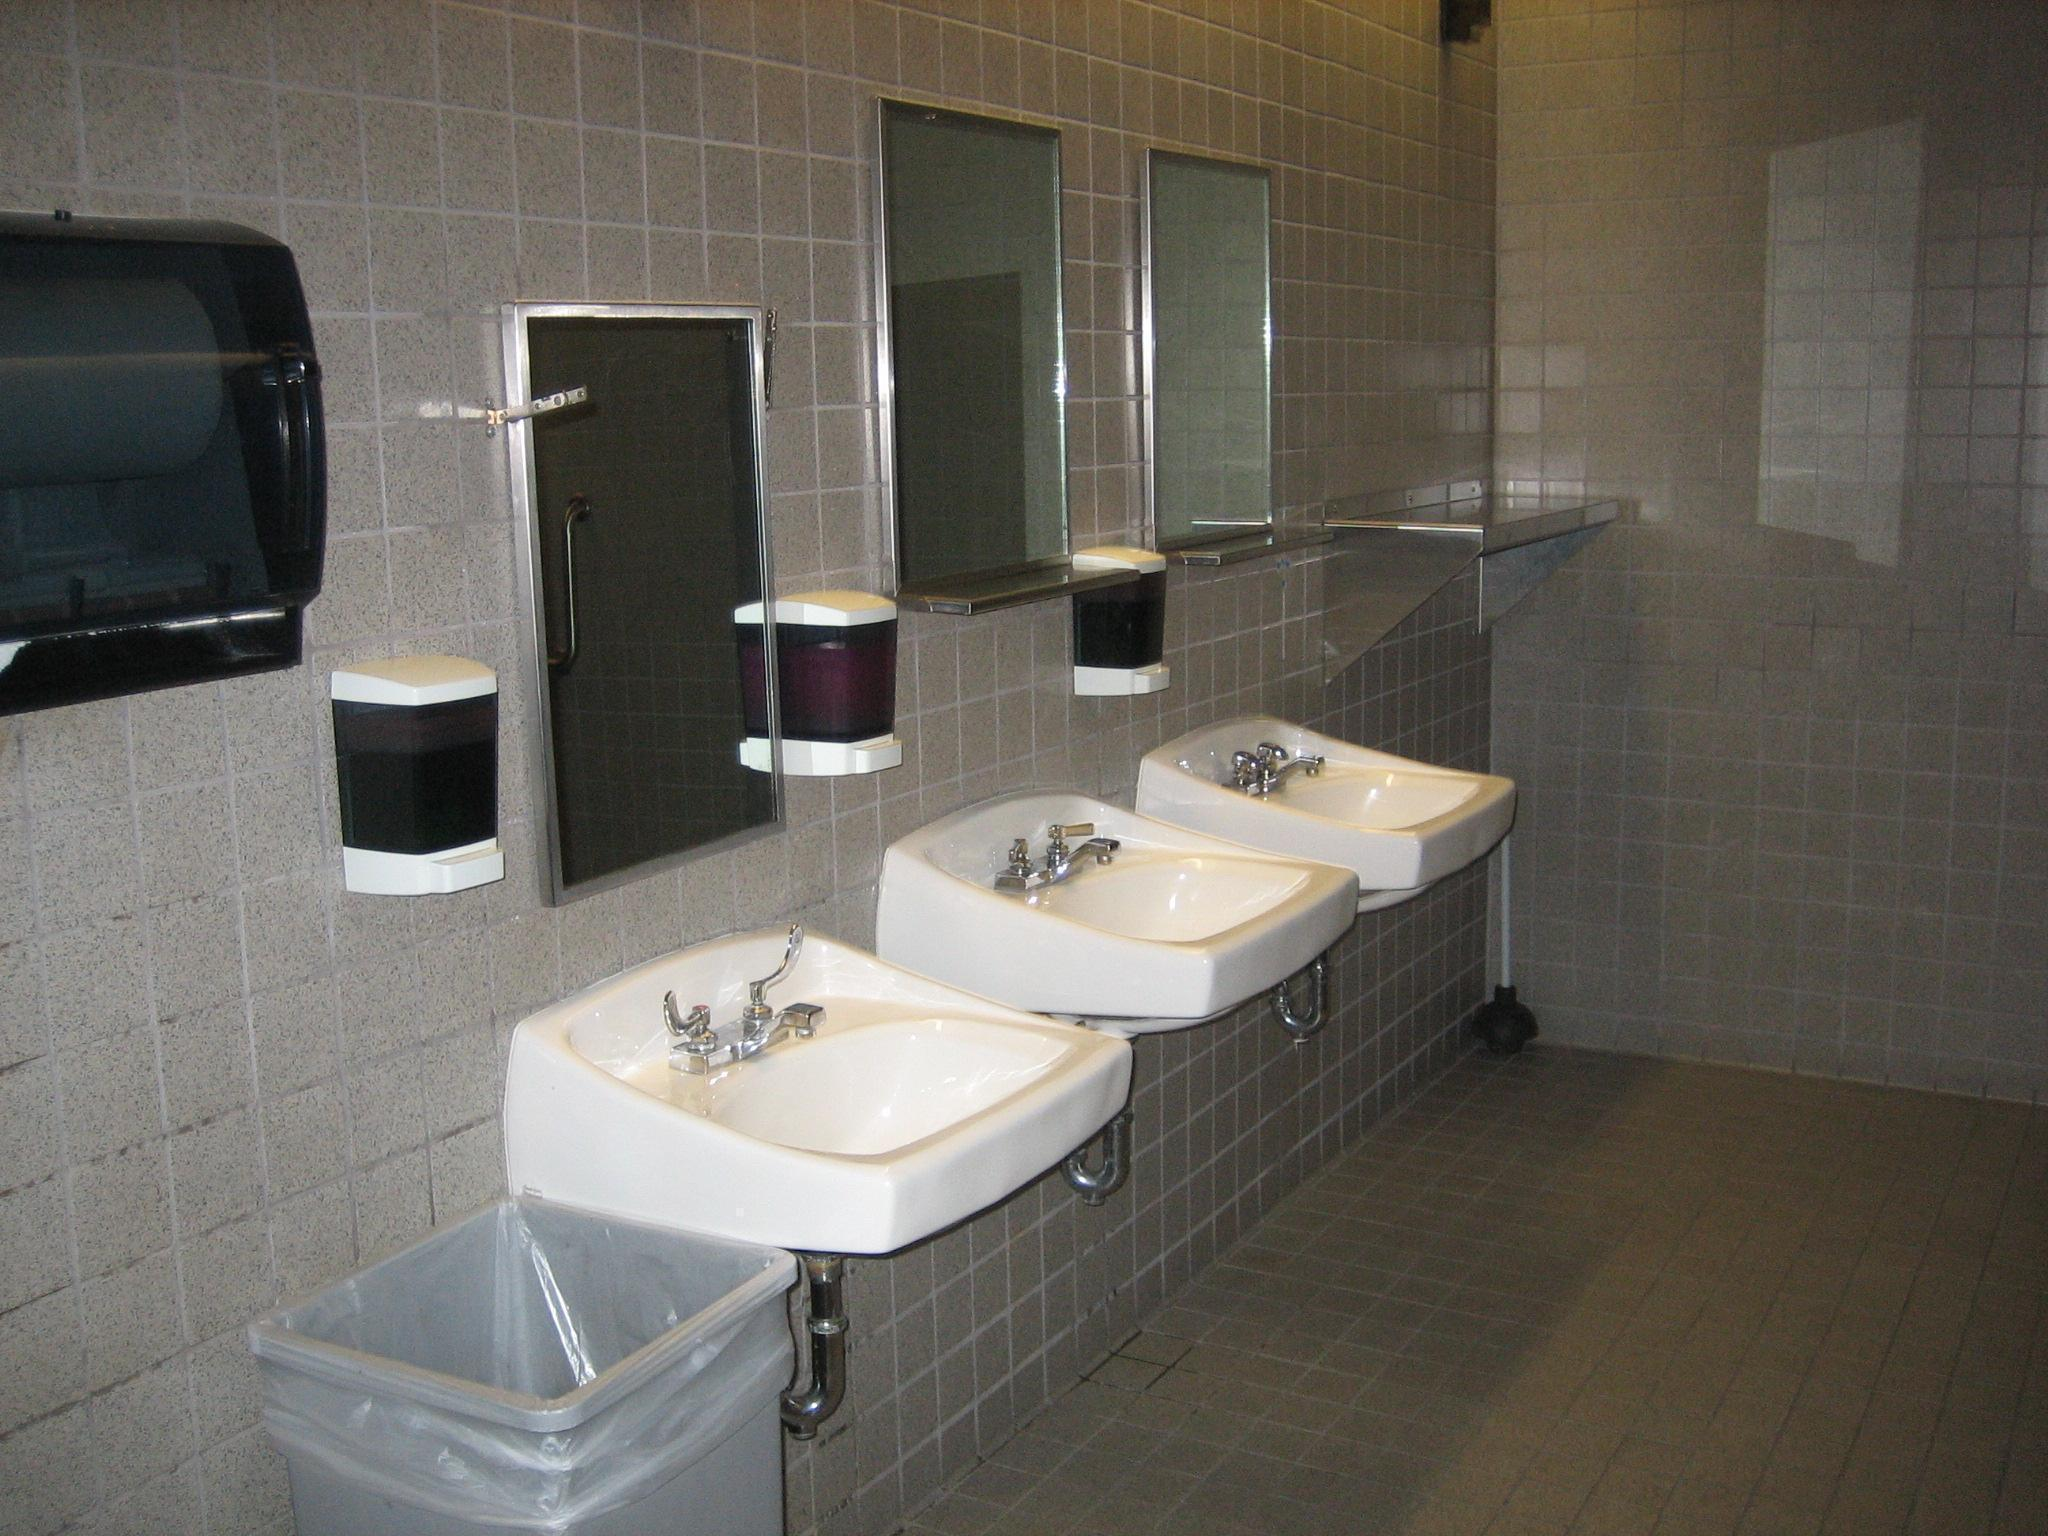Bote de Basura: (216, 1176, 806, 1525)
Lavamanos: (519, 934, 1127, 1325), (872, 770, 1398, 1070), (1142, 713, 1542, 897)
